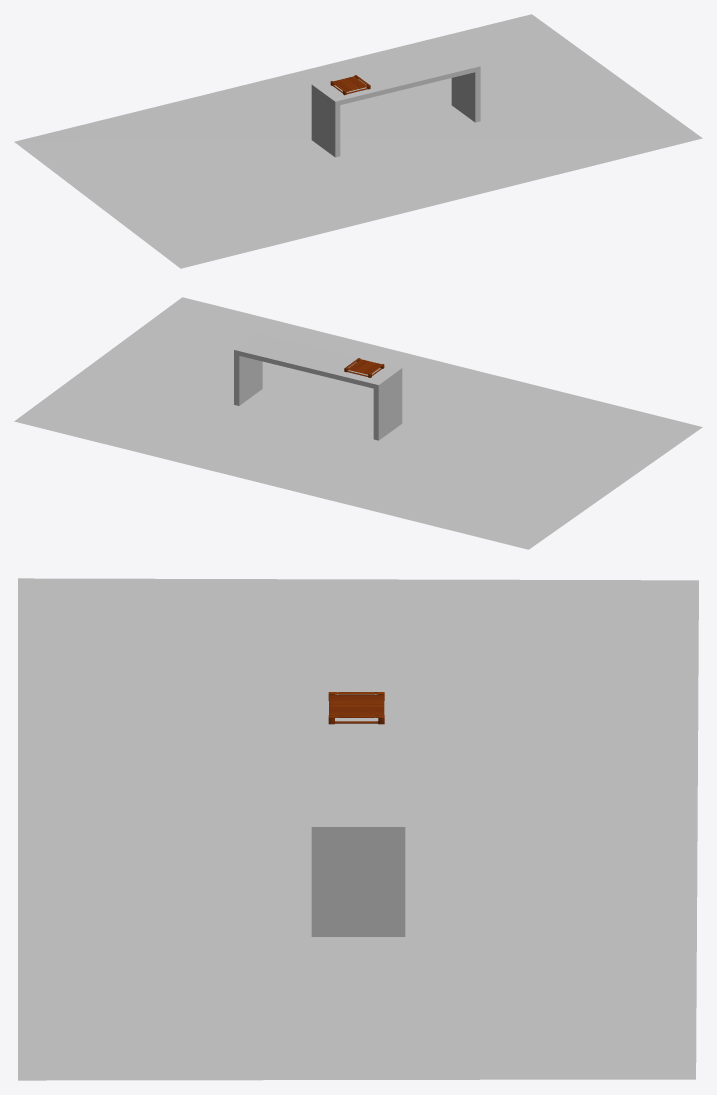
3 renders of one model, top to bottom at view 1: azimuth 30°, elevation 25°; view 2: azimuth 150°, elevation 25°; view 3: azimuth 270°, elevation 25°, orthographic. The views are drawn at different scales.
Parts seen in each view (by area): view 1: Rustic, Cube; view 2: Rustic, Cube; view 3: Rustic, Cube.
Boxes of the visible parts, x1,y1,x2,y2 form: Rustic: (14, 14, 702, 268); Cube: (330, 75, 370, 95); Rustic: (14, 297, 702, 549); Cube: (344, 358, 384, 377); Rustic: (18, 578, 698, 1080); Cube: (328, 692, 384, 724).
Size of the model in its own units: 7.05 by 0.7913 by 4.
